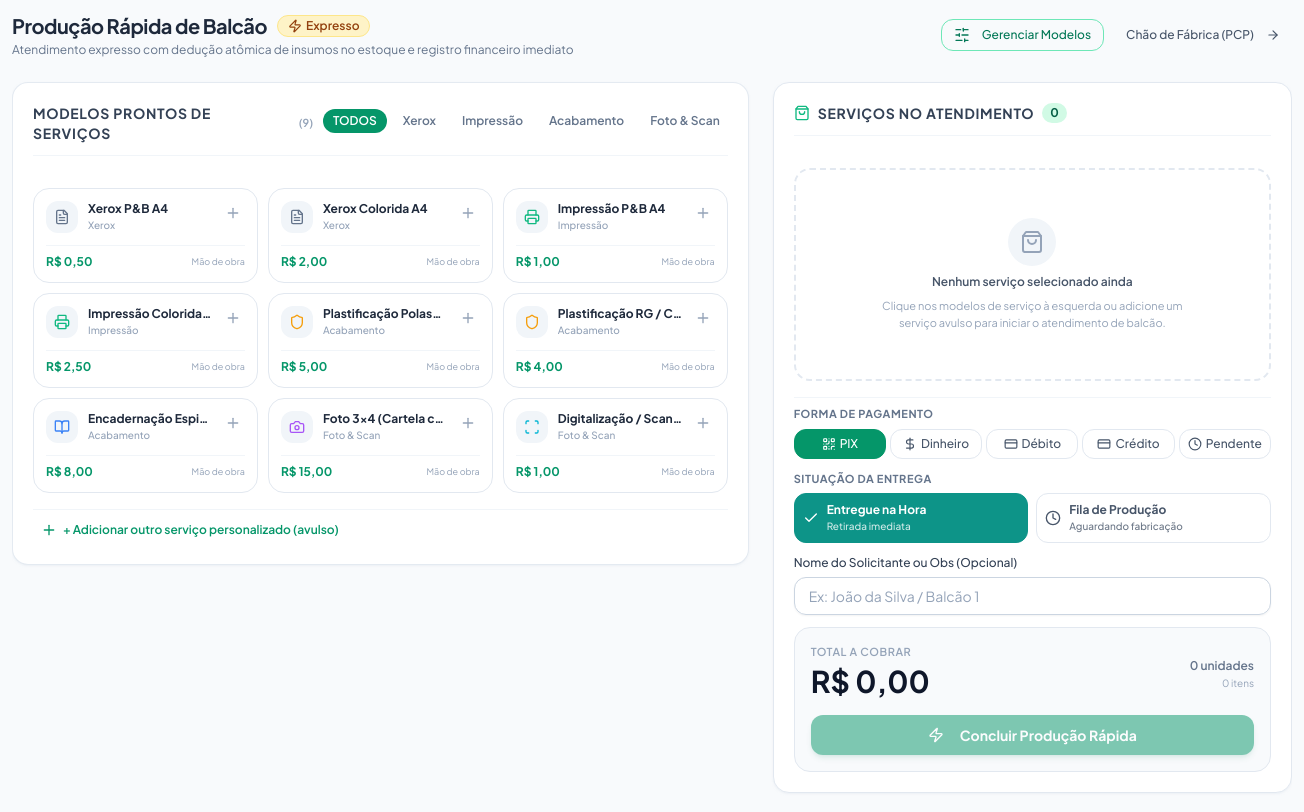
QuickProductionPage › adds preset item to list and updates total amount on click
This screenshot has width=1304, height=812.
Step 1. Click the button "Xerox P&B A4 Xerox R$ 0,50 Mão de obra" → (145, 236), box [33, 188, 258, 283]
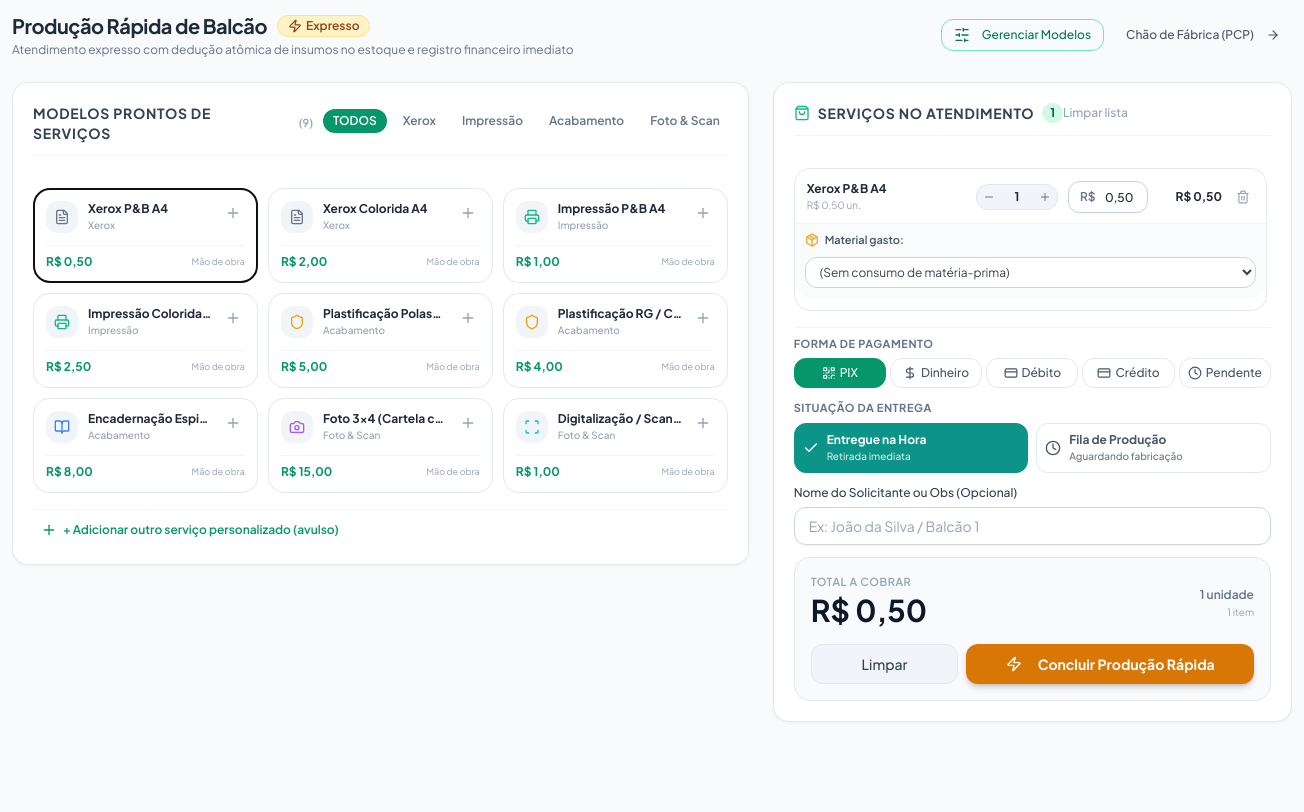
Now the text "1 unidade" is shown, box [1200, 587, 1254, 602]
Now the text "Nenhum serviço selecionado ainda" is gone
Step 2. Click the button "Xerox P&B A4 Xerox R$ 0,50 Mão de obra" → (145, 236), box [33, 188, 258, 283]
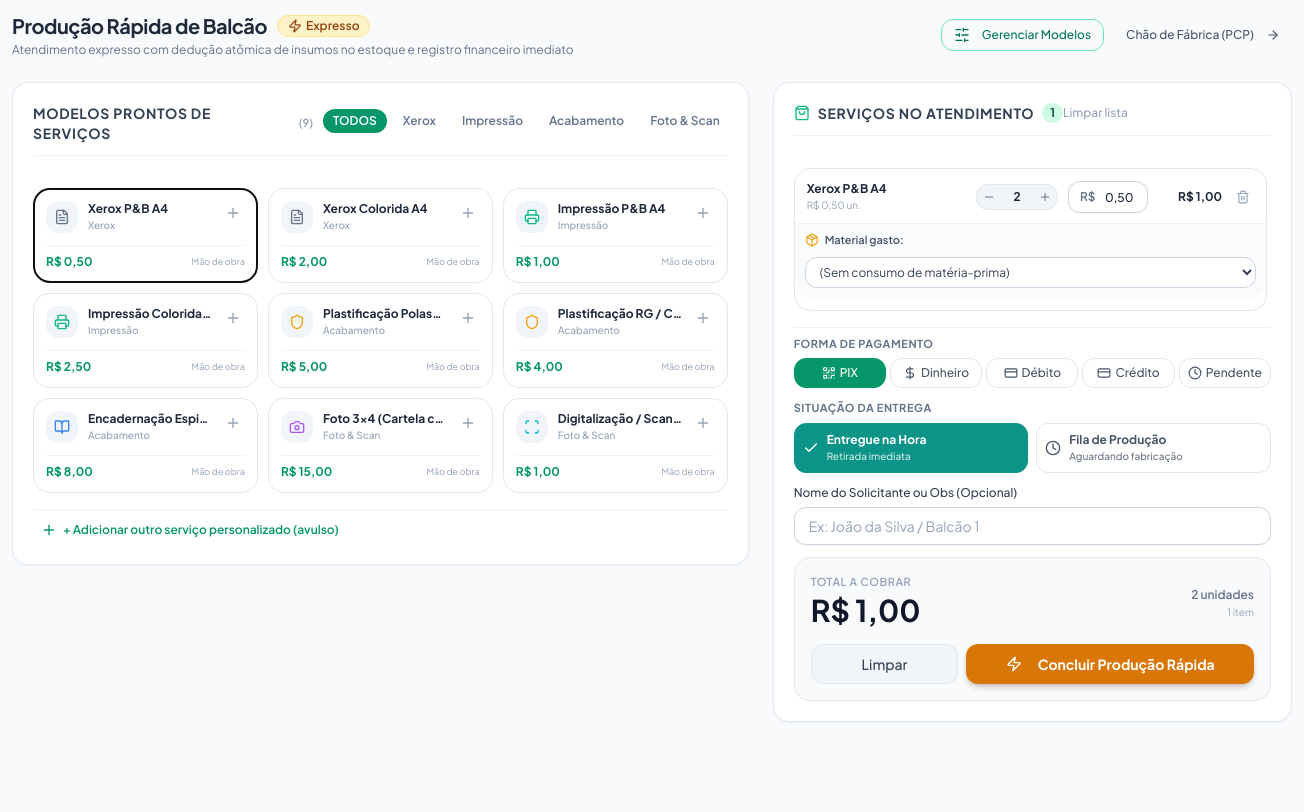
Now the text "2 unidades" is shown, box [1191, 587, 1254, 602]
